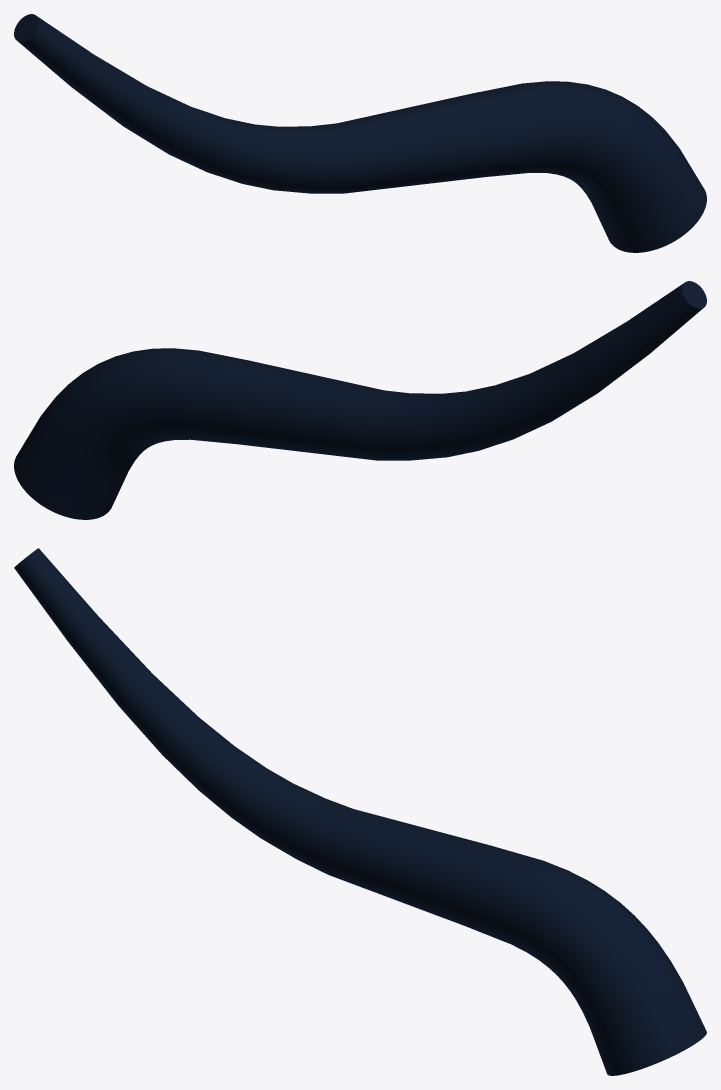
File: angryRightBrow.dae
3 renders of one model, top to bottom at view 1: azimuth 30°, elevation 25°; view 2: azimuth 150°, elevation 25°; view 3: azimuth 330°, elevation 25°, orthographic.
Visible parts, largest first — view 1: Sweep_NURBS.1; view 2: Sweep_NURBS.1; view 3: Sweep_NURBS.1.
Boxes of the visible parts, x1=… form: Sweep_NURBS.1: x1=14, y1=14, x2=706, y2=252; Sweep_NURBS.1: x1=14, y1=281, x2=706, y2=519; Sweep_NURBS.1: x1=14, y1=548, x2=706, y2=1075.
Size of the model in its own units: 29.09 by 15.21 by 4.
